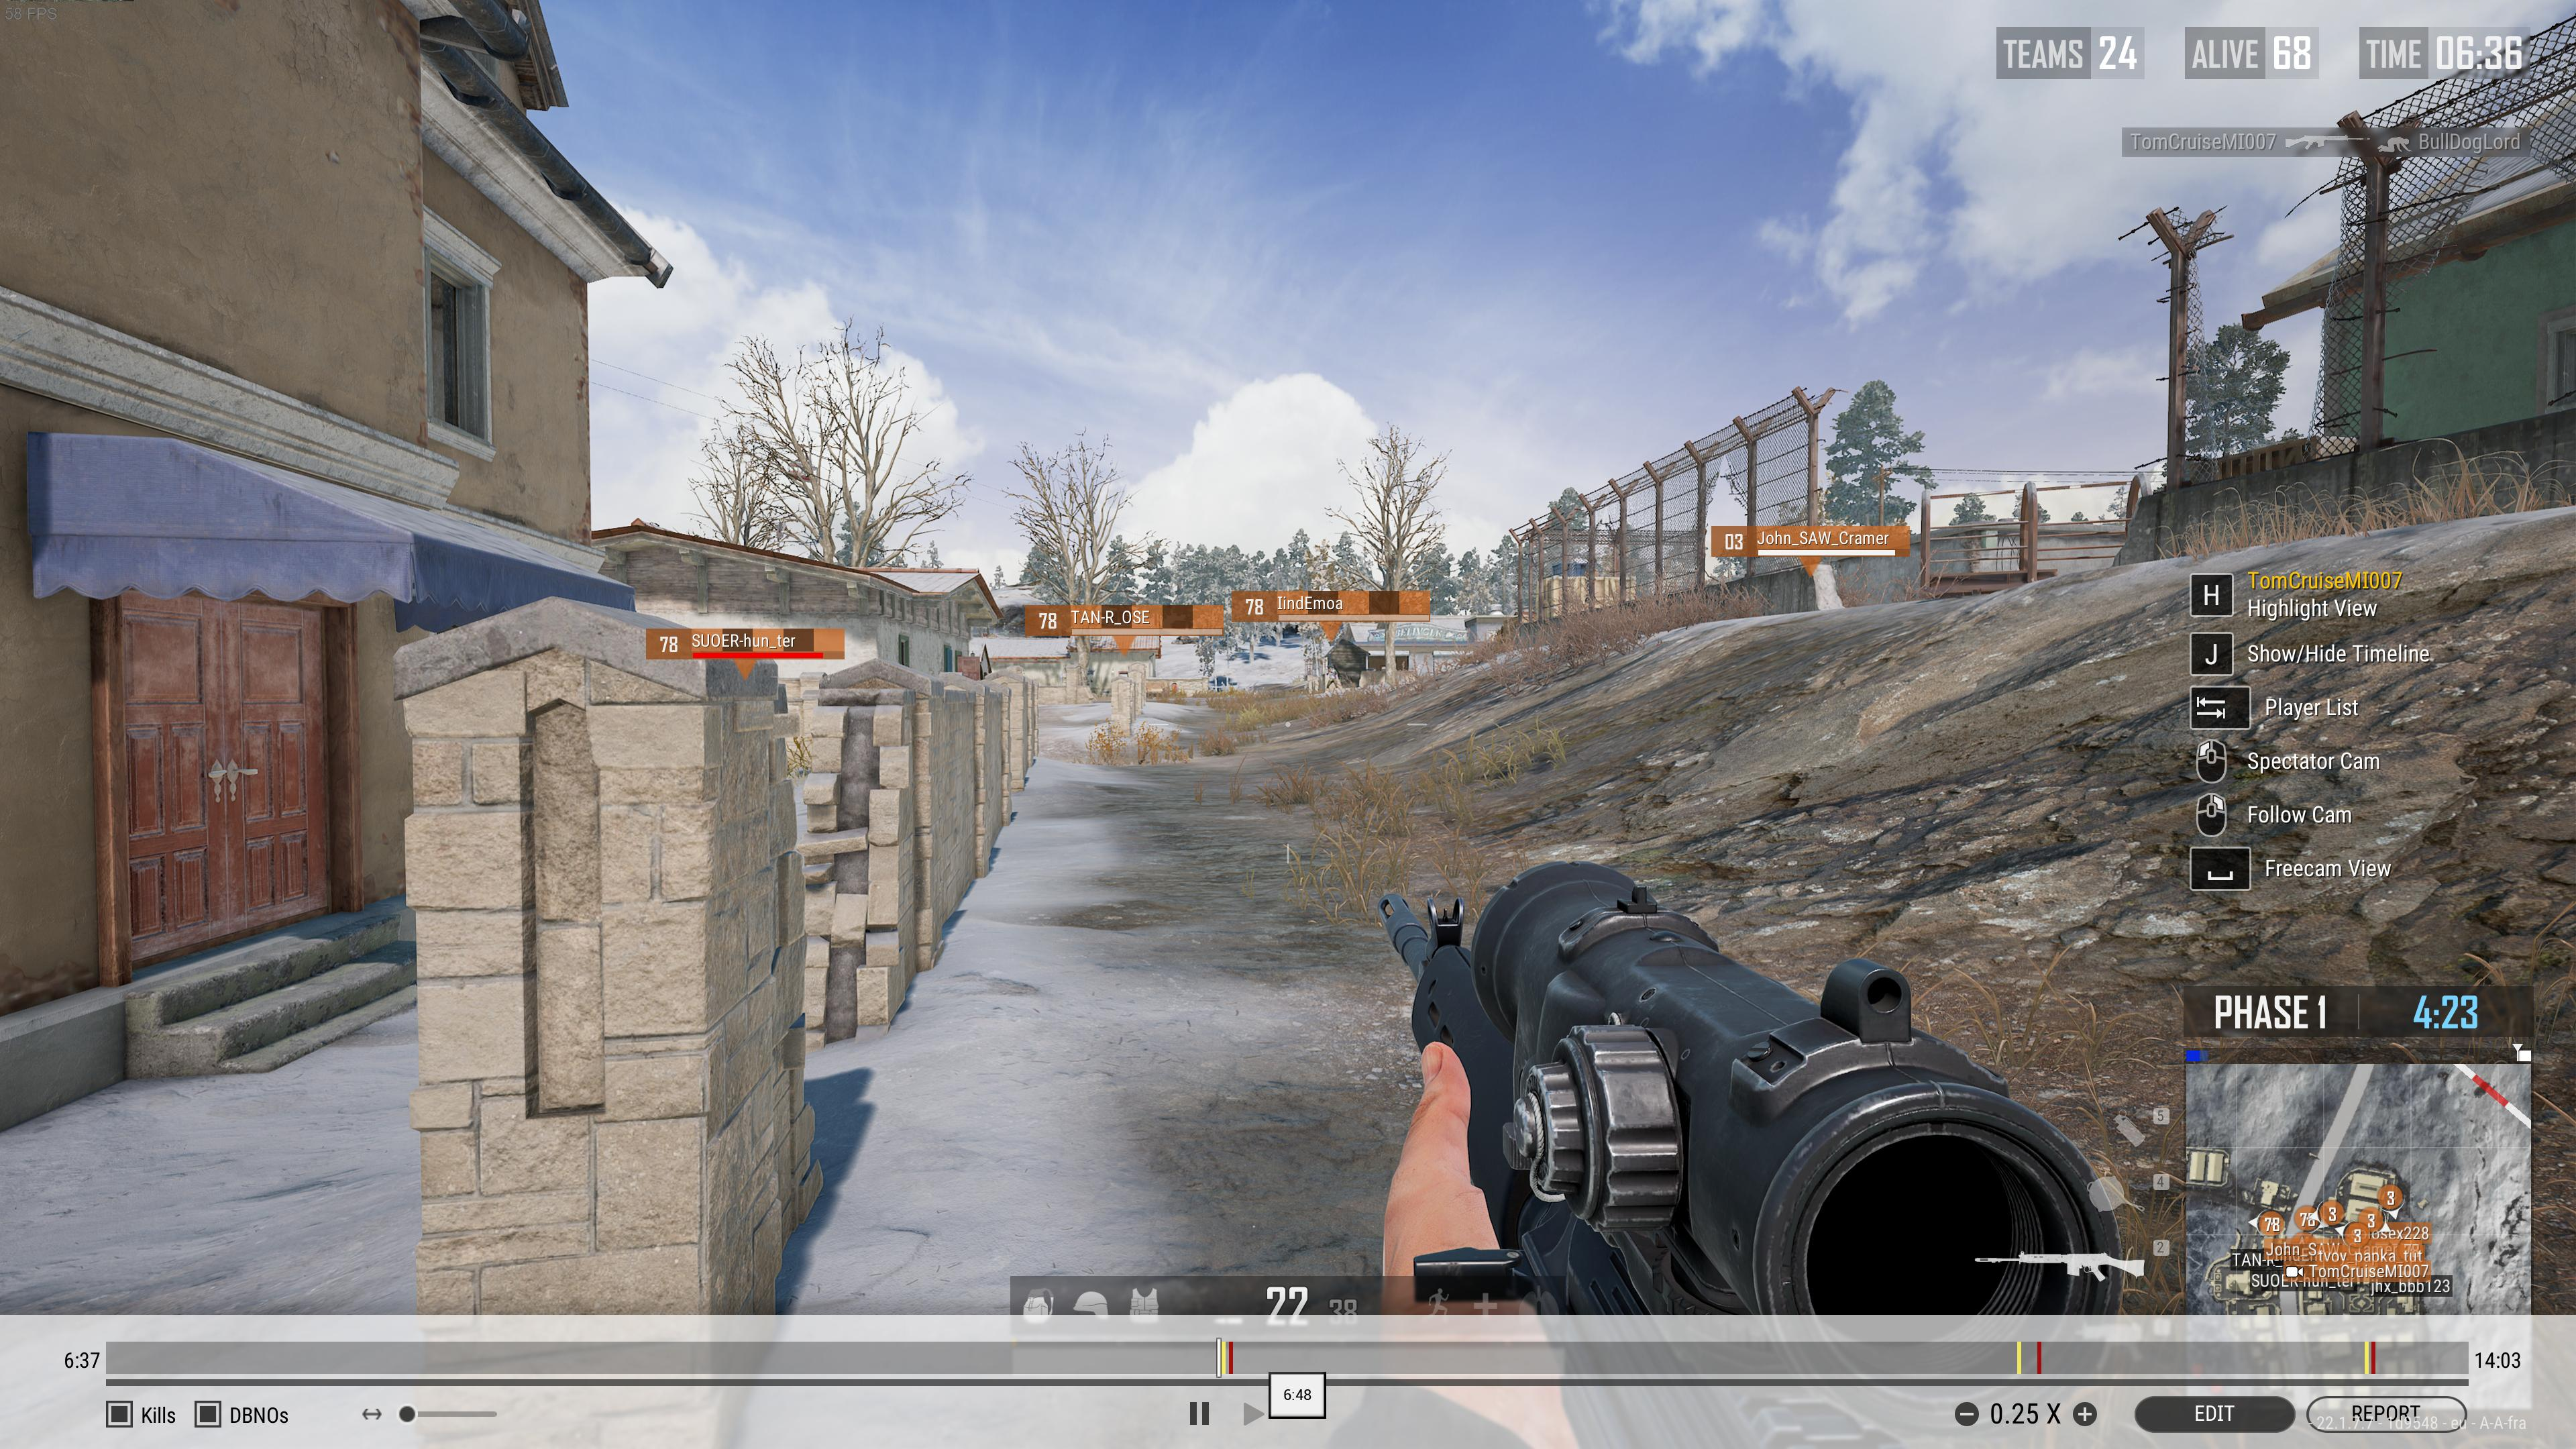enemy: (1325, 663, 1339, 692)
enemy_head: (1327, 663, 1332, 669)
